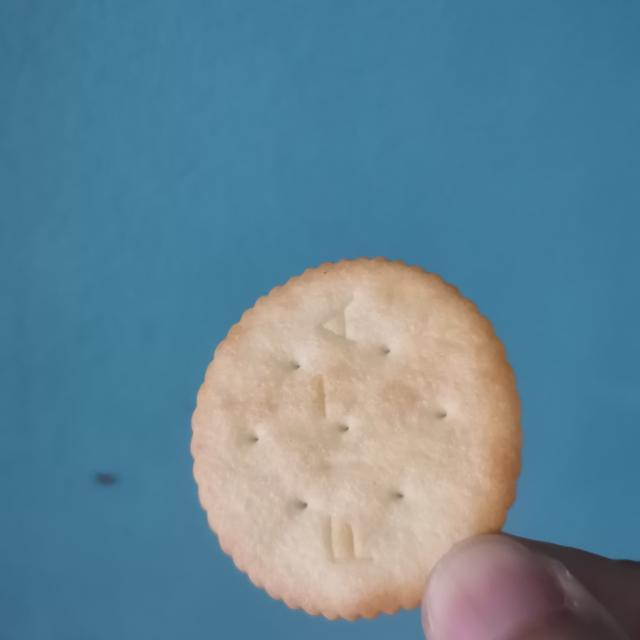Intact: (178, 242, 527, 626)
